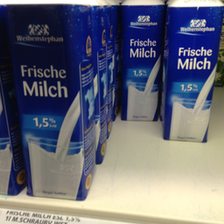milk: (7, 3, 96, 199), (163, 1, 220, 139), (118, 1, 161, 121), (162, 1, 167, 2)
